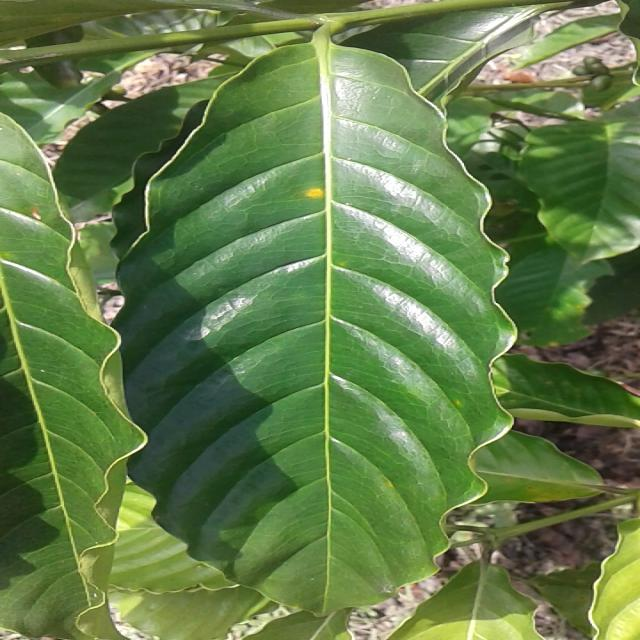Enfermedad-Roya: (114, 42, 519, 614)
